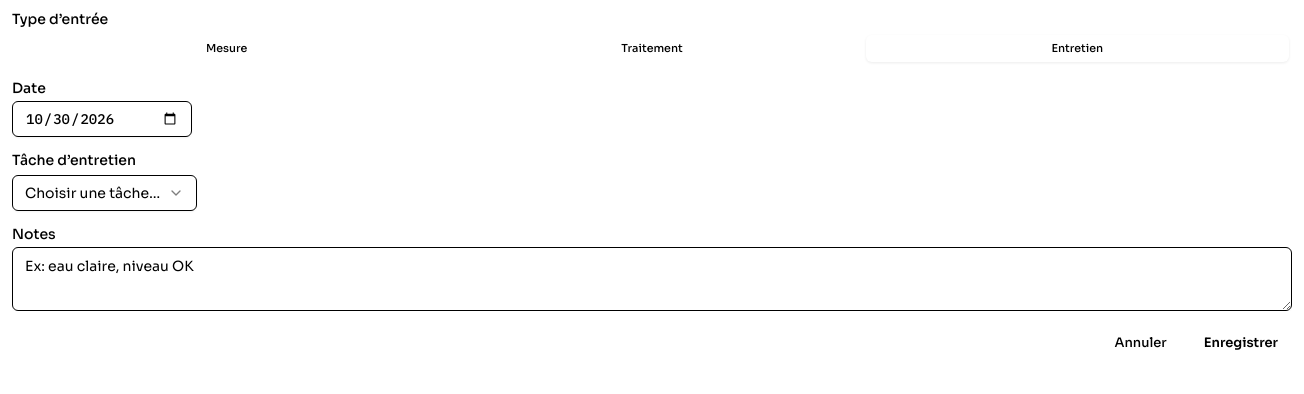
ActionForm › entry kind › refuses a maintenance entry with no task chosen
This screenshot has width=1304, height=394.
Expected: the text "Choisir une tâche…" is shown, [25,182,160,202]
Step 1. Click the button "Enregistrer" → (1241, 342), box [1190,324,1292,360]
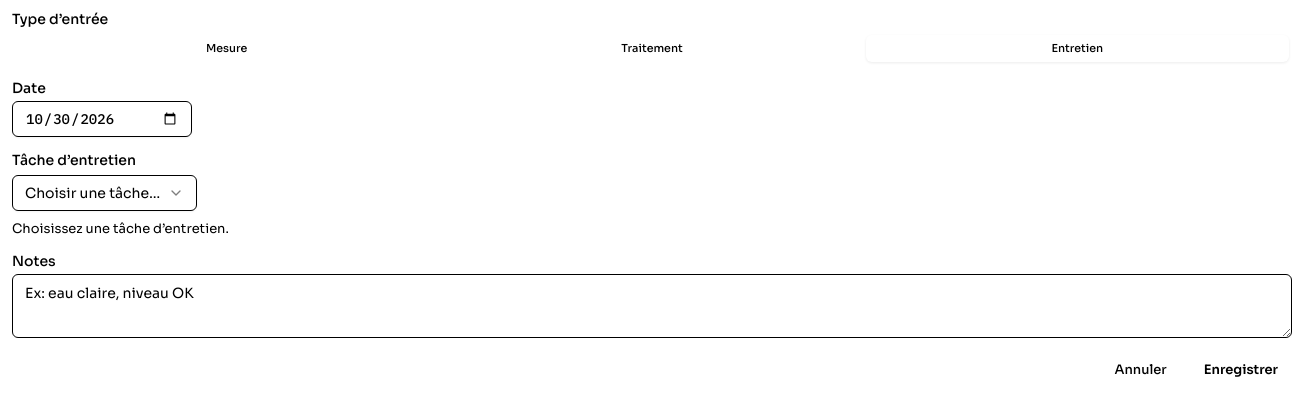
Expected: the text "Choisissez une tâche d’entretien." is shown, [12,220,229,236]
